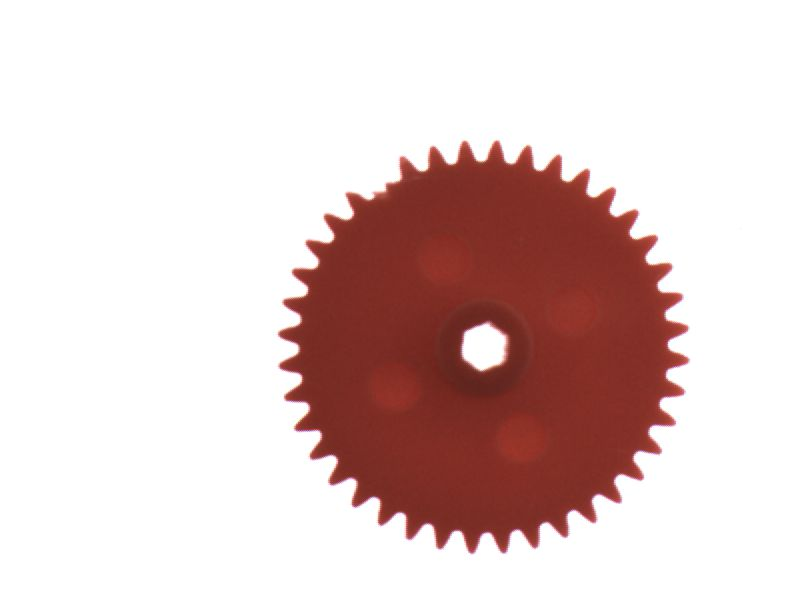defect_lack: (350, 159, 410, 209)
